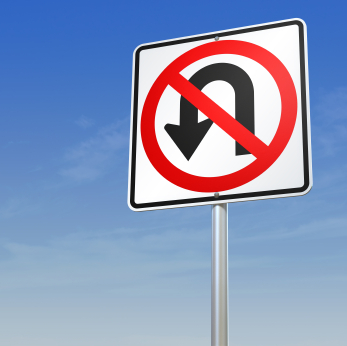No_u_turn: (140, 40, 296, 191)
